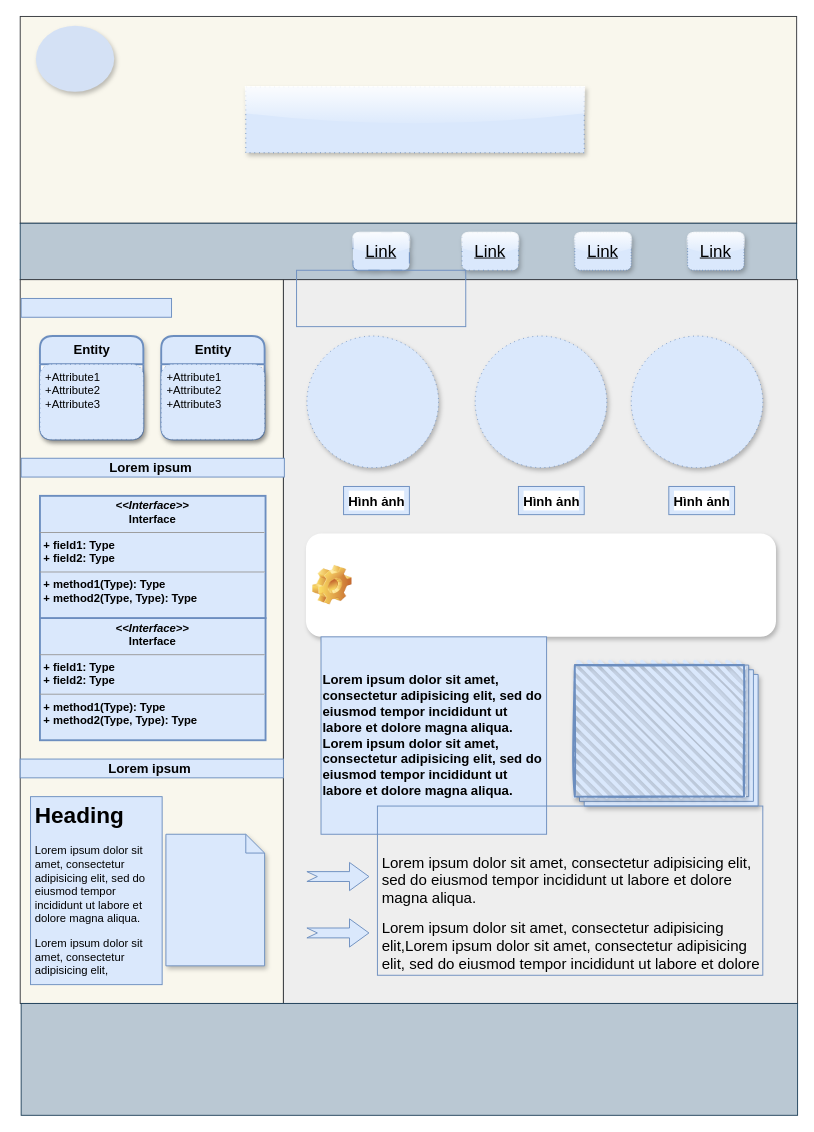
Some shapes in this 814 by 1132 pixel diagram are drawn without their labels. Here are the shapes that lost their labels. From the top down, the centre of each, then its label:
At point (67, 60): "Boundary".
At point (415, 120): "< Header >".
At point (96, 307): "%date{ddd mmm dd yyyy HH:MM:ss}%".
At point (381, 298): "TIÊU ĐỀ:".
At point (215, 901): "Note".
At point (409, 1059): "< Footer >".
